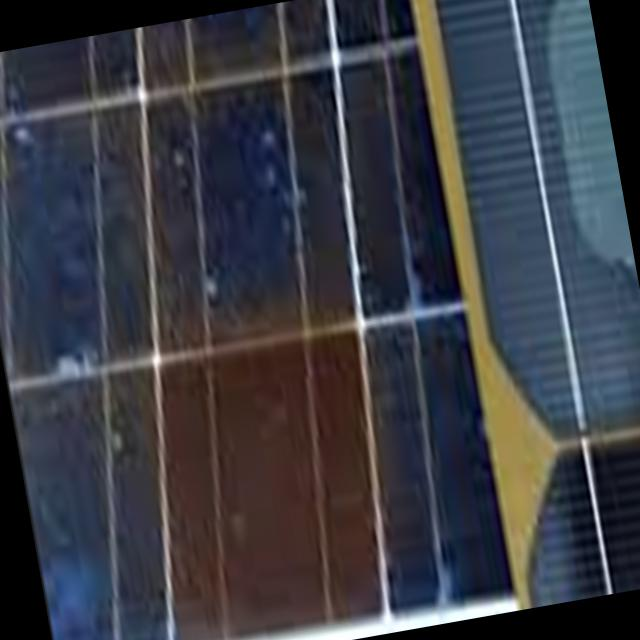faulty: (0, 5, 507, 640), (501, 0, 640, 362)
